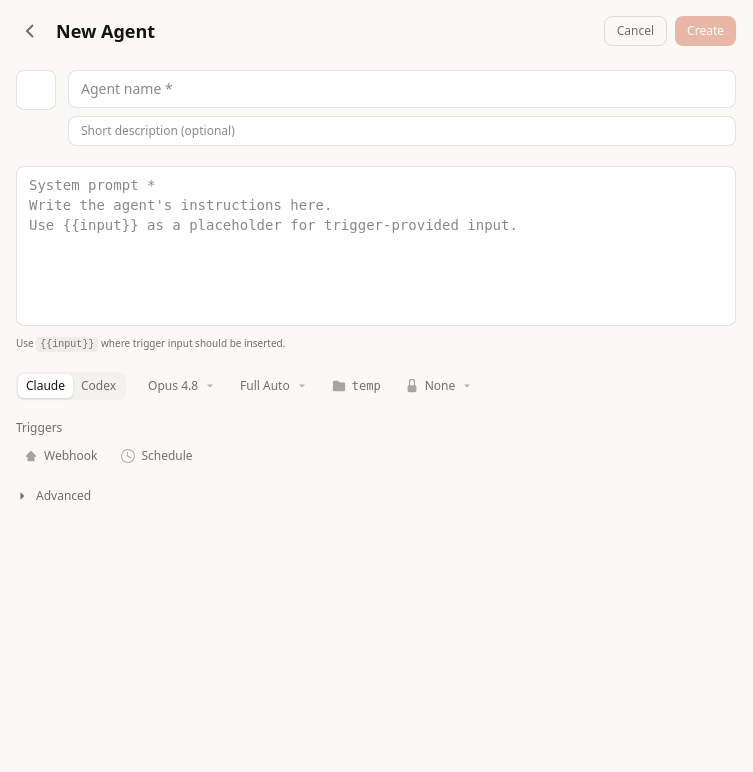
Test case: AgentEditor › shows URL input when MCP form is opened and type is changed to SSE
The image size is (753, 772).
Note: Expand Advanced section
Click the button "Advanced" at (64, 496), box [16, 488, 736, 504]
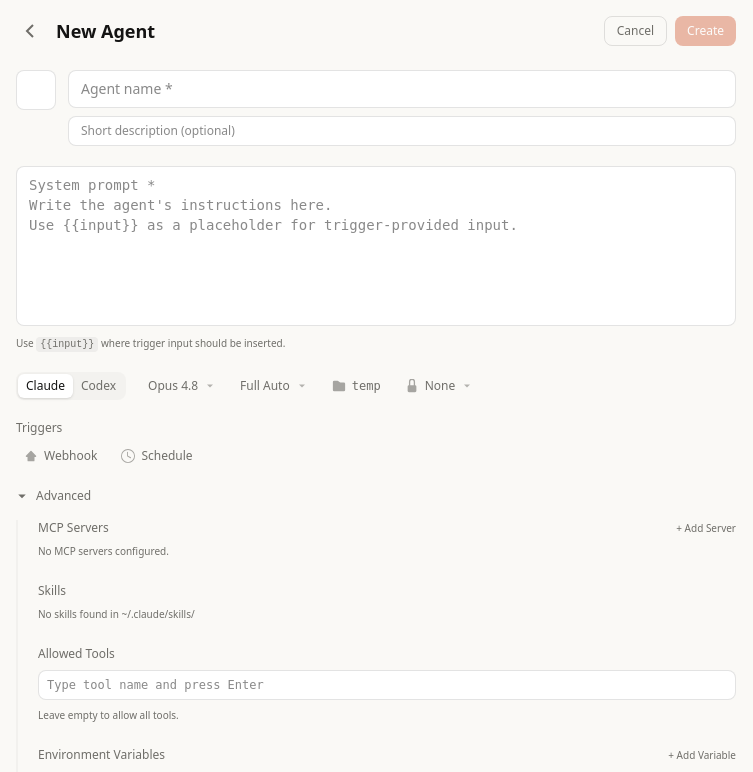
Note: Click "+ Add Server" to show the MCP form
Click the button "+ Add Server" at (706, 528), box [676, 520, 736, 536]
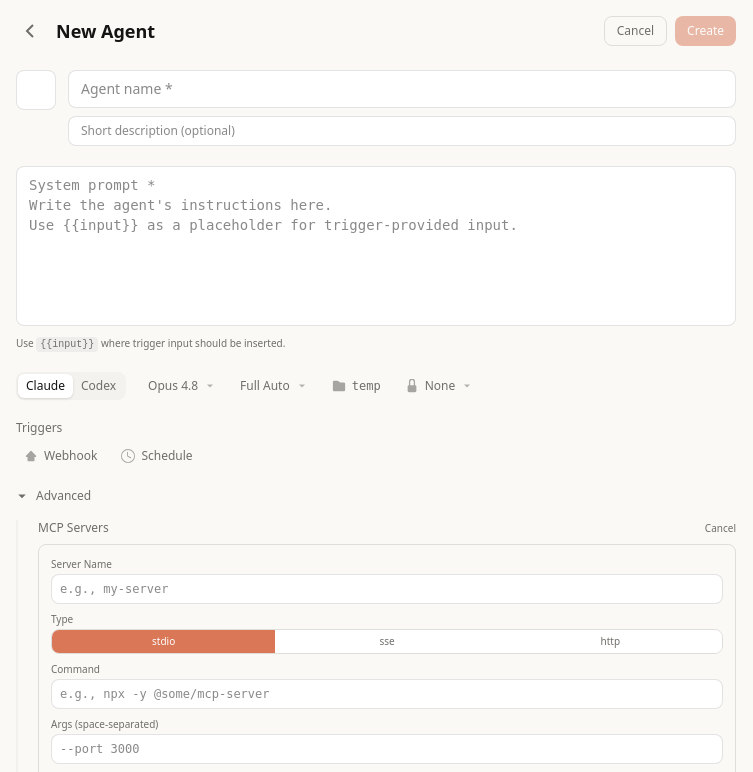
expect the field with placeholder "e.g., my-server" is shown: met, box [51, 574, 723, 604]
expect the field with placeholder "e.g., npx -y @some/mcp-server" is shown: met, box [51, 679, 723, 709]
Note: Switch type to SSE
Click the button "sse" at (387, 642), box [275, 630, 499, 653]
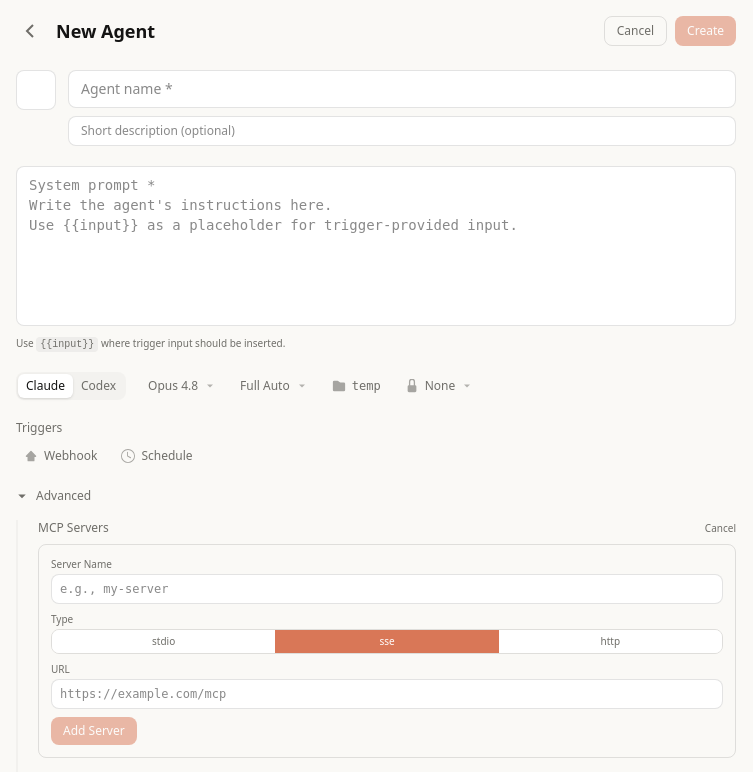
expect the field with placeholder "e.g., npx -y @some/mcp-server" is not shown: met
expect the field with placeholder "https://example.com/mcp" is shown: met, box [51, 679, 723, 709]
